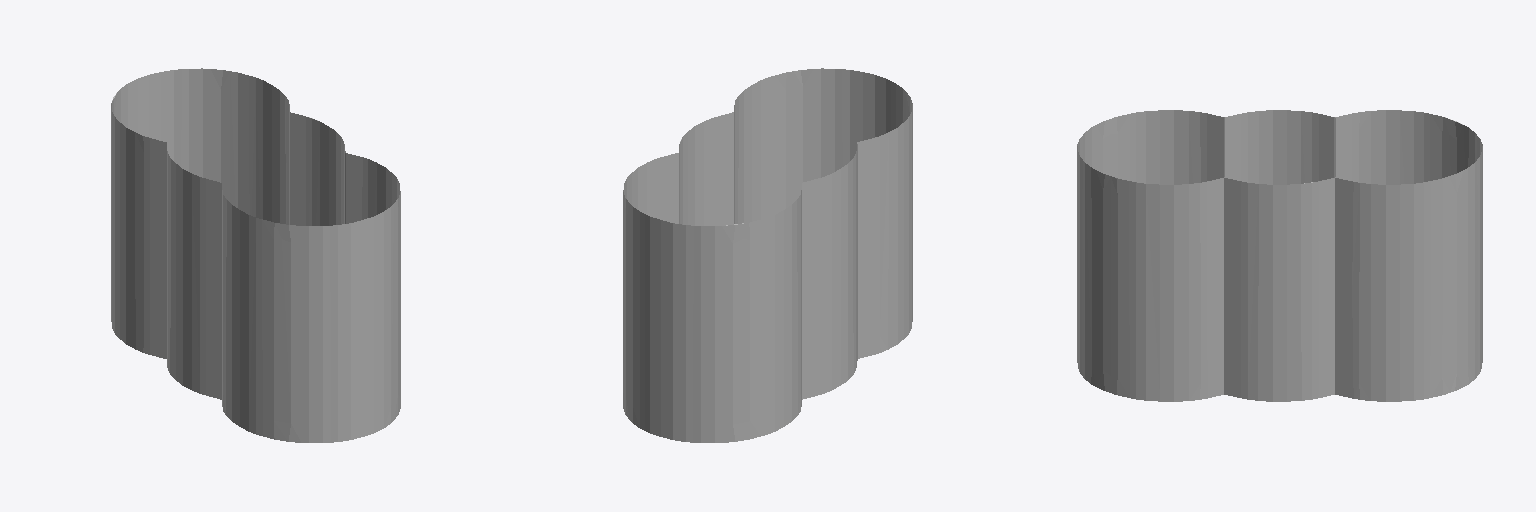
Rendered from big-heal-pack-glass.obj.
3 views of the same model, side by side, from view 1: azimuth 30°, elevation 25°; view 2: azimuth 150°, elevation 25°; view 3: azimuth 270°, elevation 25° (orthographic).
Parts seen in each view (by area): view 1: капсула_большой_аптечки.001_Цилиндр.011; view 2: капсула_большой_аптечки.001_Цилиндр.011; view 3: капсула_большой_аптечки.001_Цилиндр.011.
Boxes of the visible parts, <box> form: капсула_большой_аптечки.001_Цилиндр.011: <box>111,68,400,442</box>; капсула_большой_аптечки.001_Цилиндр.011: <box>623,68,912,442</box>; капсула_большой_аптечки.001_Цилиндр.011: <box>1077,110,1482,401</box>.
Size of the model in its own units: 0.2468 by 0.3333 by 0.5642.